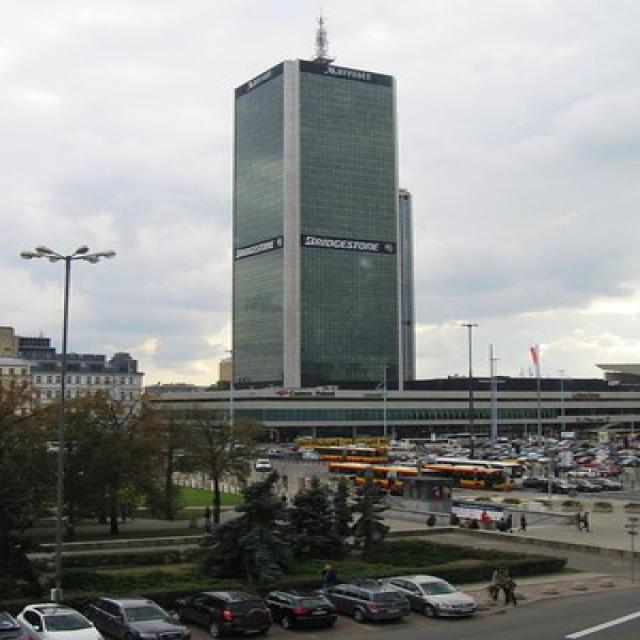Normal_building: (221, 55, 415, 399)
